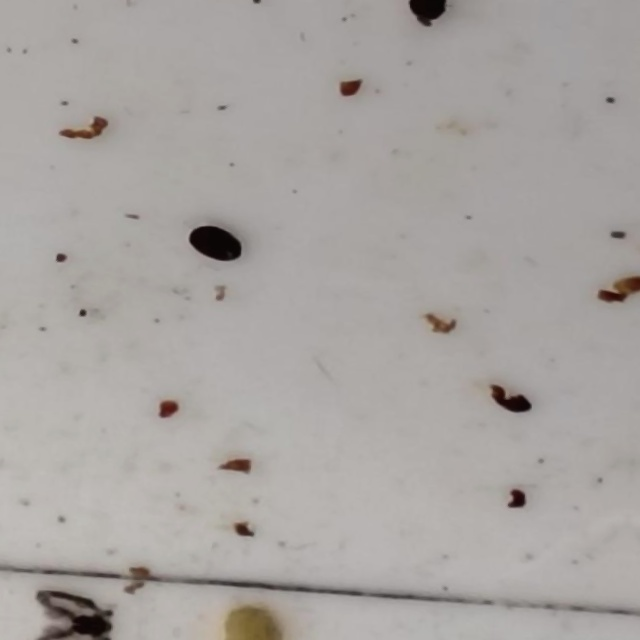varroa: (183, 221, 245, 266)
